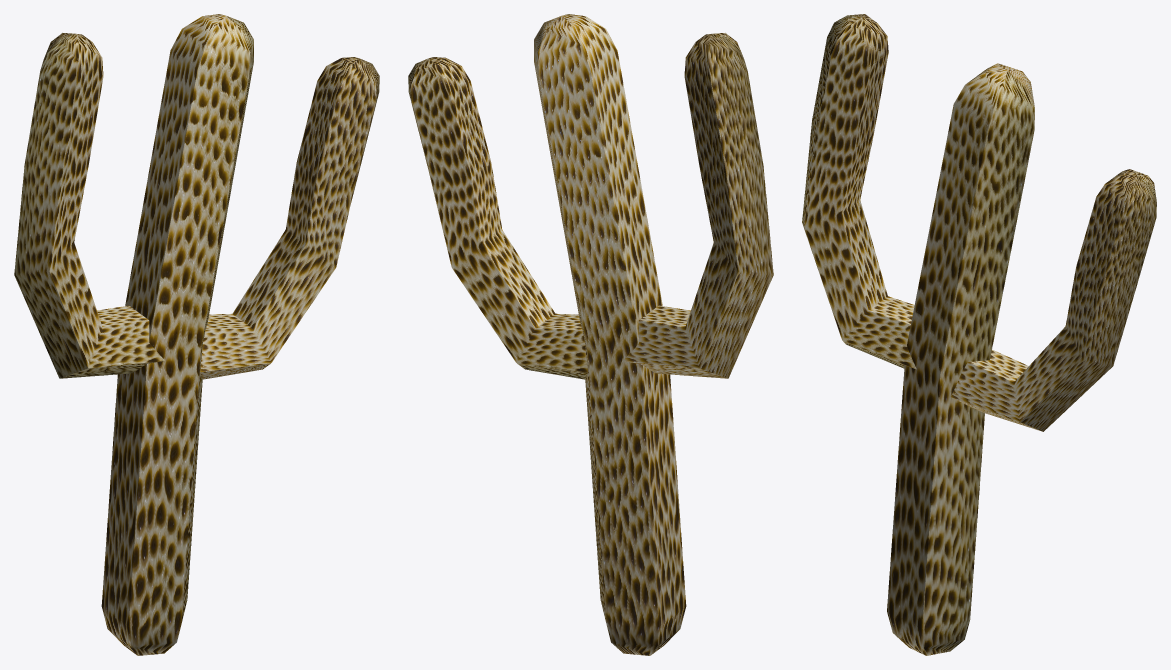
Rendered from fork cactus.fbx.
3 renders of one model, left to right at view 1: azimuth 30°, elevation 25°; view 2: azimuth 150°, elevation 25°; view 3: azimuth 330°, elevation 25°, orthographic. The views are drawn at different scales.
Parts seen in each view (by area): view 1: symmetrical_cactus; view 2: symmetrical_cactus; view 3: symmetrical_cactus.
Part boxes in pixels (x1,y1,x2,y2): symmetrical_cactus: [14, 14, 379, 655]; symmetrical_cactus: [408, 14, 773, 655]; symmetrical_cactus: [802, 14, 1156, 655].
Bounding box in the file's own units: 366 × 609 × 76.08.
1 material, 1 textured.
